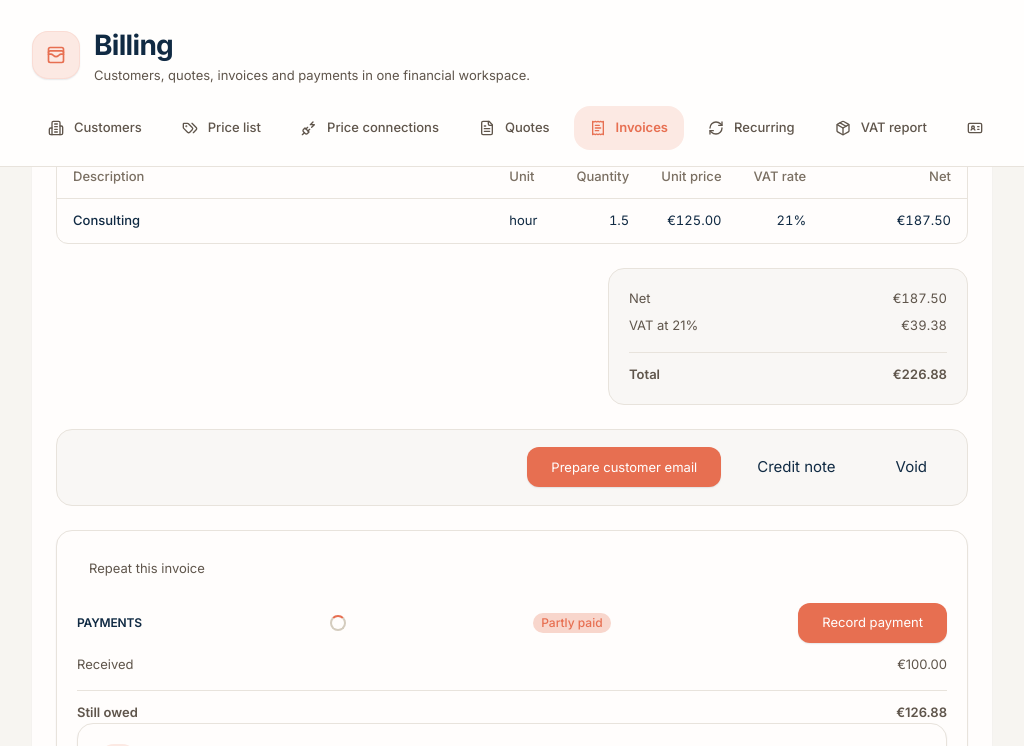
Test: the lifecycle actions › a credit note is raised as a draft, and the screen lands on it
(page scrolled)
Step 1. Click the button "Credit note" → x=796, y=467, box 733,446 -> 860,489
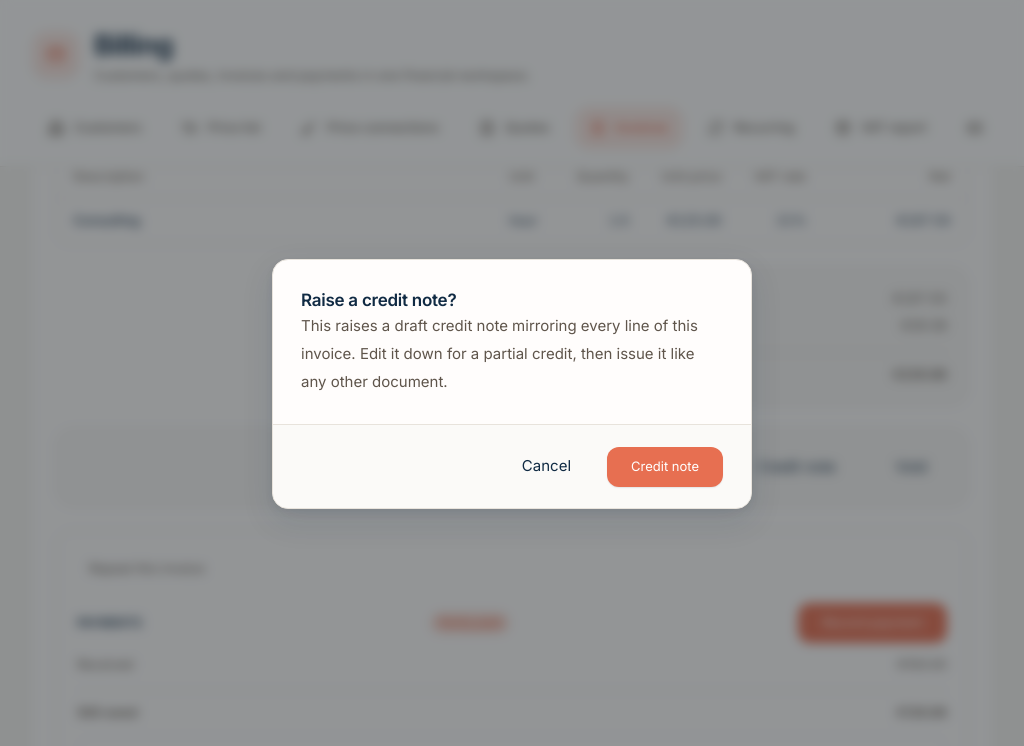
Expected: the text "This raises a draft credit note mirroring every line of this invoice. Edit it down for a partial credit, then issue it l" is shown, 301,316 -> 702,391
Step 2. Click the button "Credit note" → x=665, y=466, box 607,446 -> 723,486
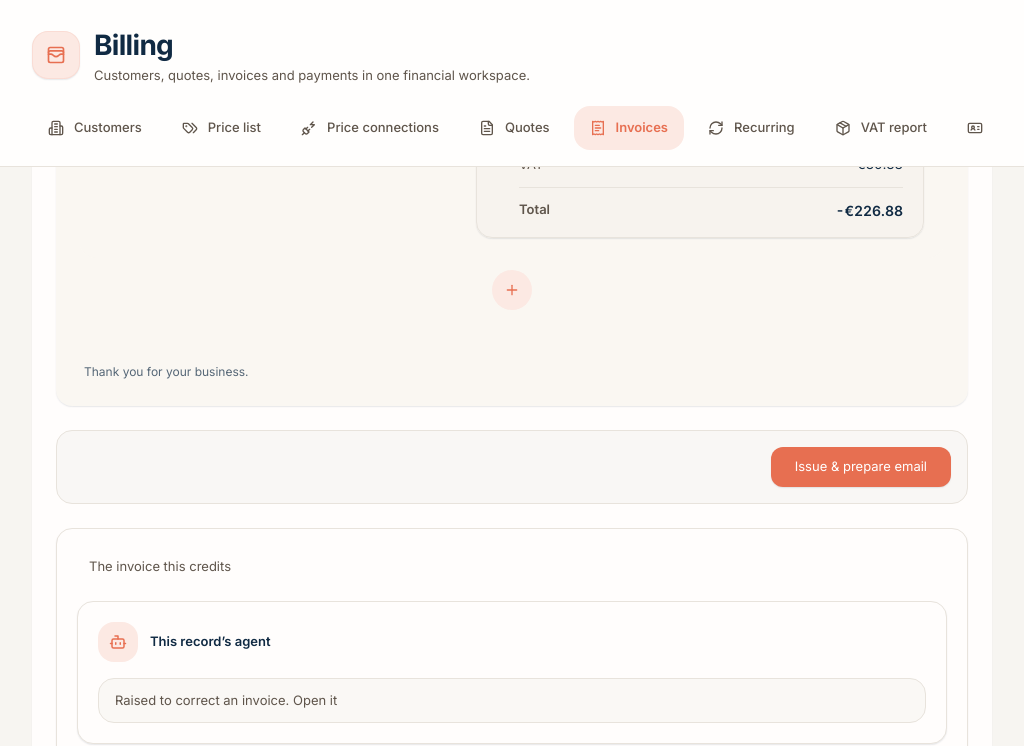
Expected: the text "-€226.88" is shown, 835,200 -> 903,220
Expected: the button "The invoice this credits" is shown, 77,549 -> 243,585
